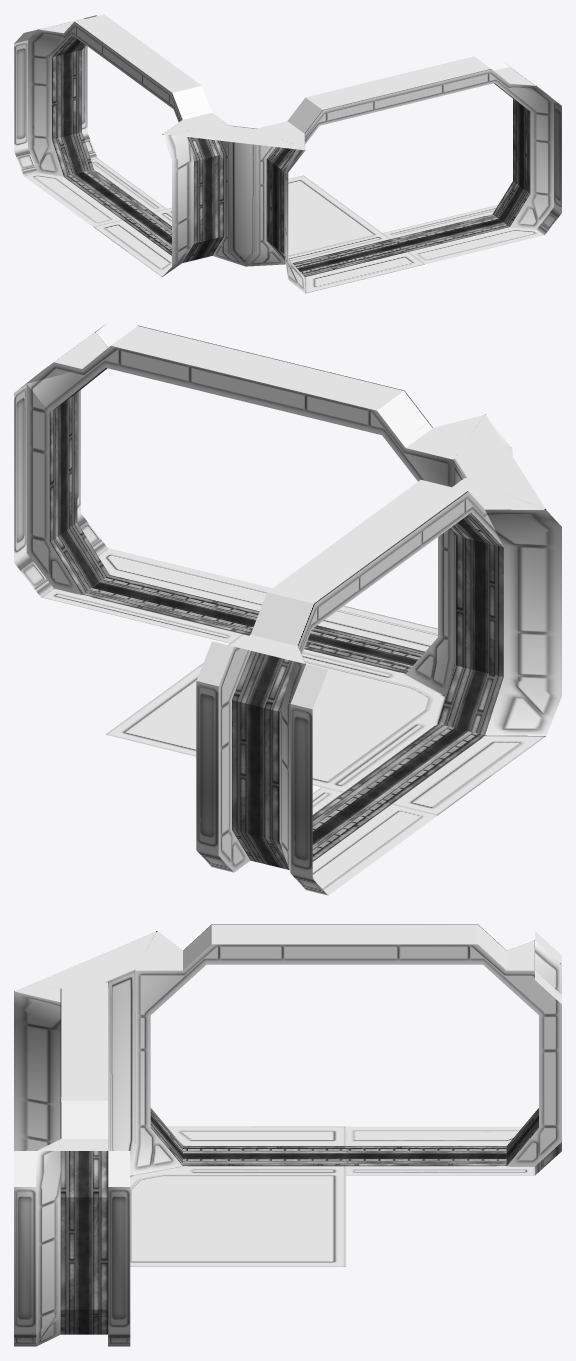
File: Sect_CornerA_Hall.FBX
The picture shows the model from 3 angles, top to bottom: view 1: azimuth 30°, elevation 25°; view 2: azimuth 150°, elevation 25°; view 3: azimuth 270°, elevation 25°; orthographic projection. The views are drawn at different scales.
Visible parts, largest first — view 1: Sect_Buffer_C002, Sect_BufferFloor_C002; view 2: Sect_Buffer_C002, Sect_BufferFloor_C002; view 3: Sect_Buffer_C002, Sect_BufferFloor_C002.
Boxes of the visible parts, x1,y1,x2,y2 form: Sect_Buffer_C002: (14,14,561,292); Sect_BufferFloor_C002: (24,158,544,293); Sect_Buffer_C002: (14,324,561,895); Sect_BufferFloor_C002: (41,548,545,895); Sect_Buffer_C002: (14,924,561,1346); Sect_BufferFloor_C002: (108,1126,534,1346).
Bounding box in the file's own units: 10.16 × 4.54 × 10.16.
